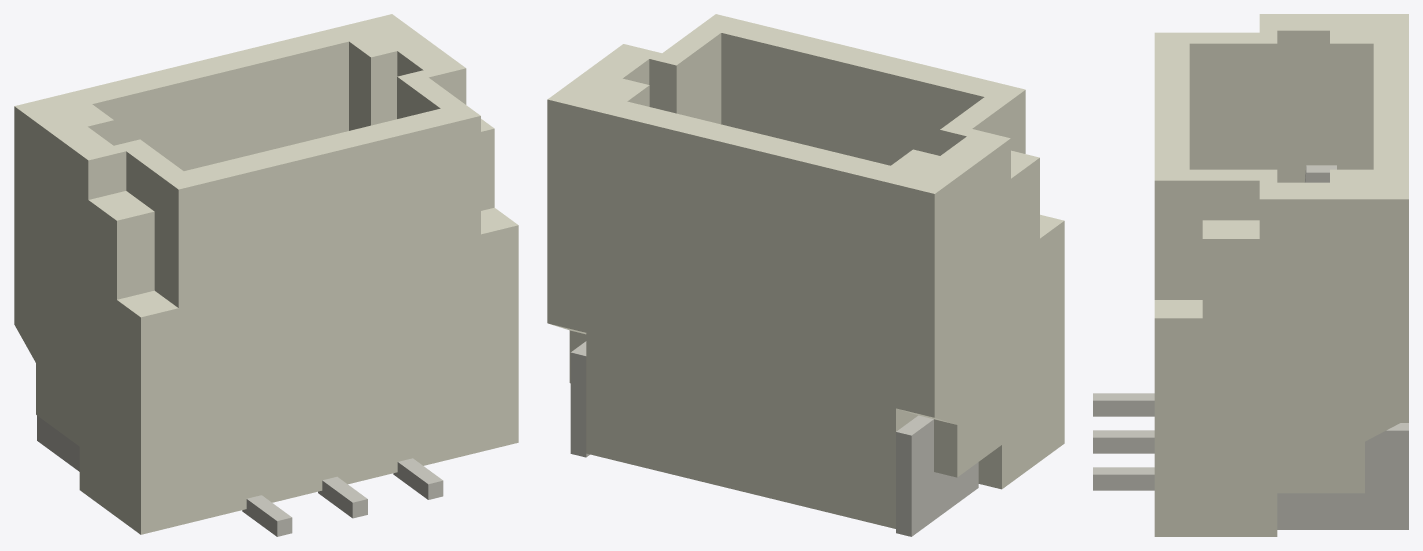
The model's file is kc-jst_sh_bm03b-srss-tb_1x03-1mp_p1.00mm_vertical.glb.
3 renders of one model, left to right at view 1: azimuth 30°, elevation 25°; view 2: azimuth 150°, elevation 25°; view 3: azimuth 270°, elevation 25°, orthographic. The views are drawn at different scales.
Parts seen in each view (by area): view 1: 0.75_0.75_0.6666666666666666_0, 0.6666666666666666_0.6666666666666666_0.5833333333333334_0.8; view 2: 0.75_0.75_0.6666666666666666_0, 0.6666666666666666_0.6666666666666666_0.5833333333333334_0.8; view 3: 0.75_0.75_0.6666666666666666_0, 0.6666666666666666_0.6666666666666666_0.5833333333333334_0.8.
Boxes of the visible parts, bbox=[...] form: 0.75_0.75_0.6666666666666666_0: bbox=[14, 14, 518, 534]; 0.6666666666666666_0.6666666666666666_0.5833333333333334_0.8: bbox=[37, 415, 443, 536]; 0.75_0.75_0.6666666666666666_0: bbox=[547, 14, 1064, 528]; 0.6666666666666666_0.6666666666666666_0.5833333333333334_0.8: bbox=[570, 341, 978, 536]; 0.75_0.75_0.6666666666666666_0: bbox=[1154, 14, 1408, 536]; 0.6666666666666666_0.6666666666666666_0.5833333333333334_0.8: bbox=[1093, 165, 1408, 529].
Size of the model in its own units: 0.5 by 0.432 by 0.36.
